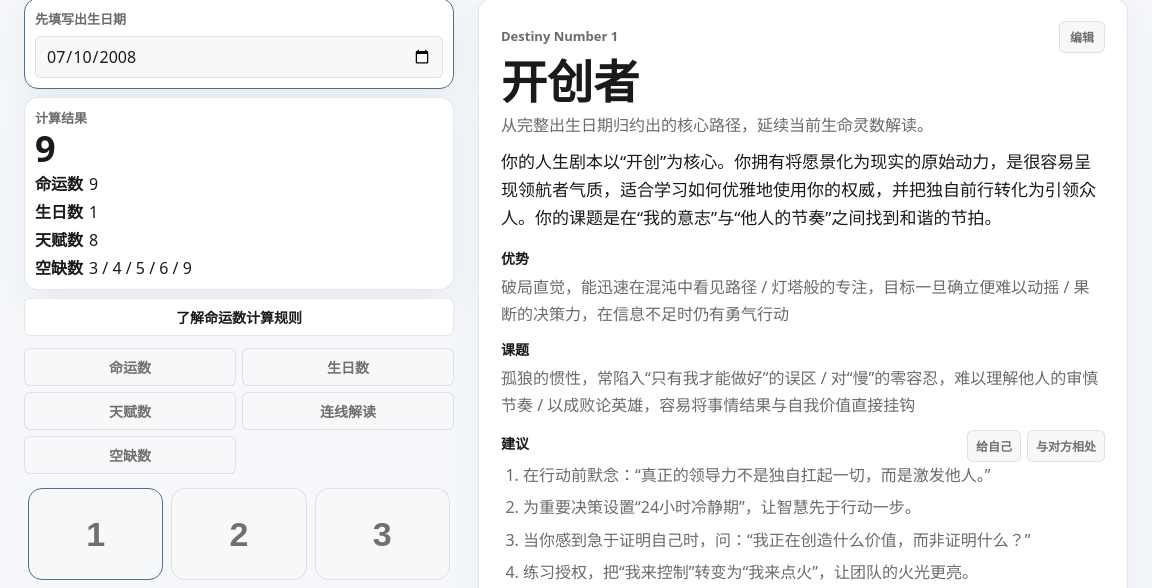
MainPage › 点击数字后展示对应中文解读
Type "1989-08-18" into the date field labelled "先填写出生日期".
click(239, 57); type("1989-08-18")  # box 35,36 -> 443,78
(page scrolled)
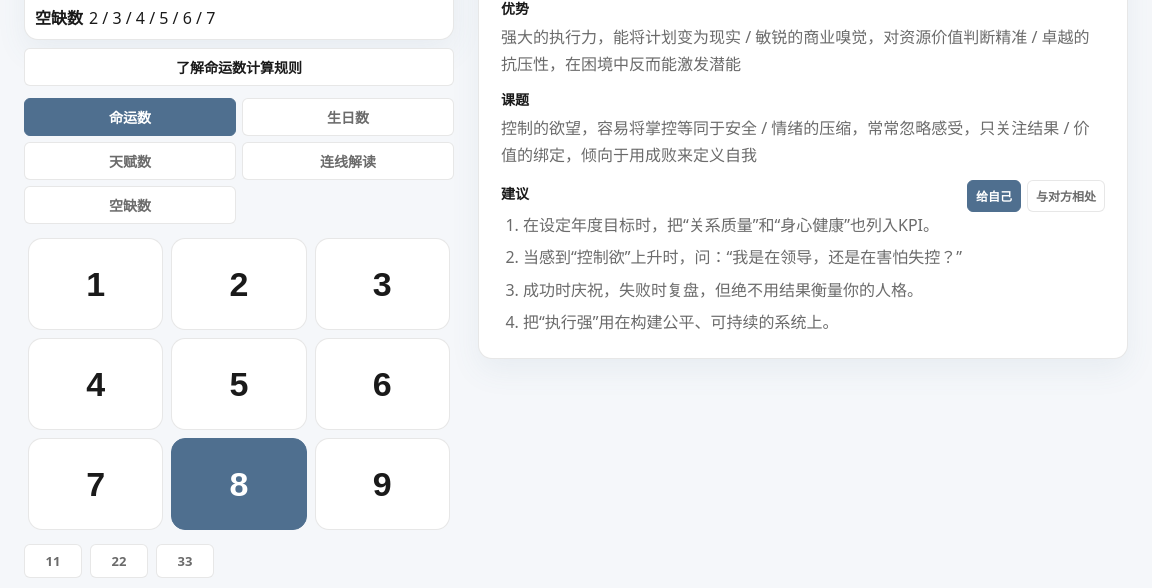
Click the button with class "tile" showing "7".
click(96, 484)  # box 28,438 -> 163,530
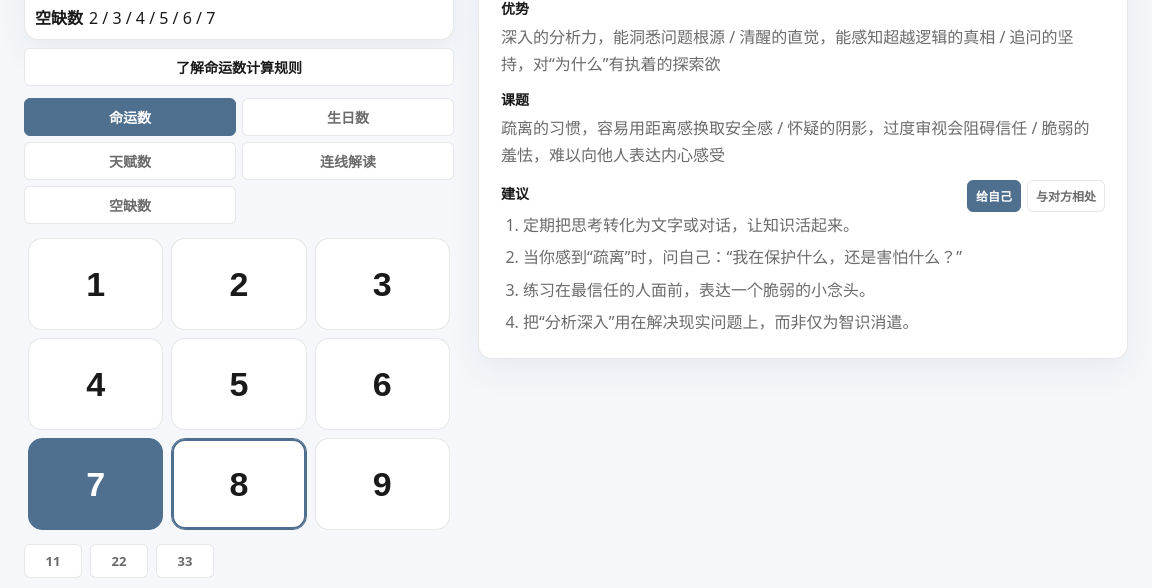
Check: the text "追问的坚持" is shown, box 501,26 -> 1074,75
